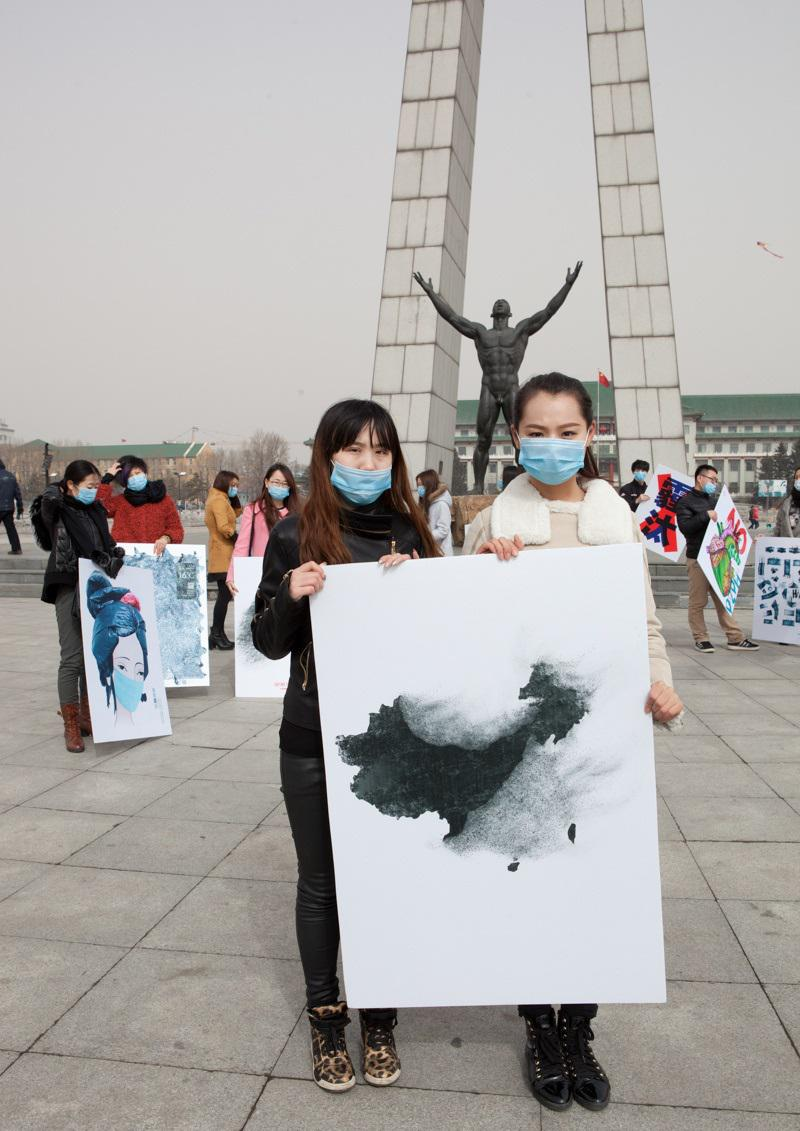OK: (516, 413, 589, 486), (70, 475, 103, 507), (269, 471, 293, 500), (123, 466, 146, 493), (631, 463, 652, 484), (226, 477, 244, 500), (415, 478, 429, 499), (793, 468, 800, 494)
WRONG: (333, 434, 396, 502), (700, 470, 720, 495)
